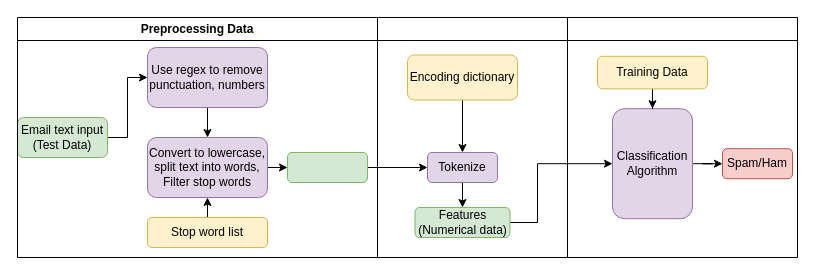
This 815x275 diagram has some shape labels left out. The shapes that lost their labels are listed below. From the top down, each one's centre as x and y in pixels, then its label:
At (472,137): "Feature Extraction".
At (682,137): "Classification".
At (327,167): "List of words".
